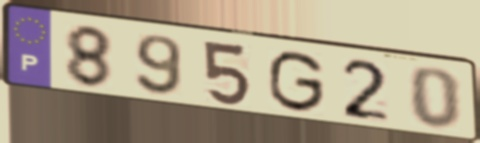0: (405, 64, 465, 133)
2: (340, 58, 393, 126)
5: (200, 37, 254, 108)
8: (62, 23, 116, 91)
9: (132, 32, 185, 99)
G: (265, 49, 328, 116)
